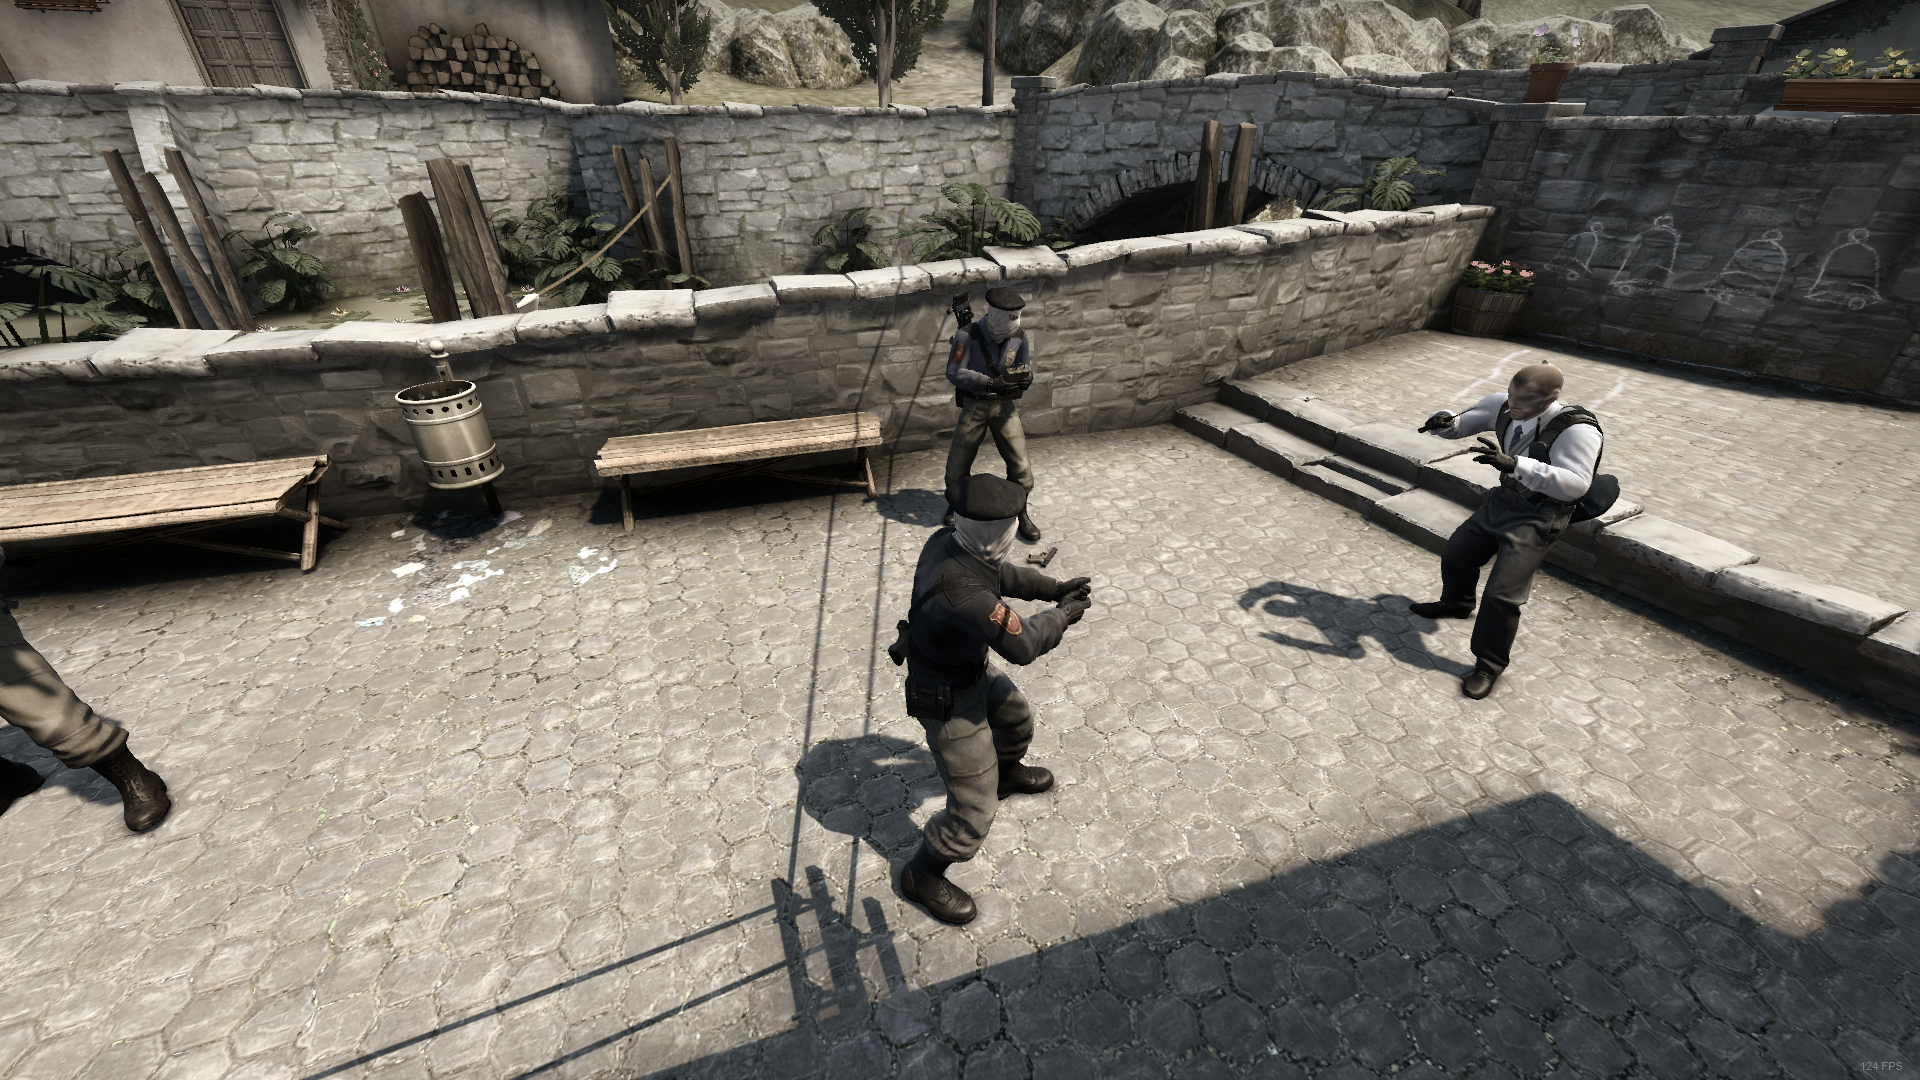t: (889, 472, 1102, 942), (934, 278, 1048, 566)
